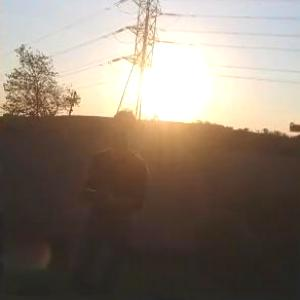follow: (75, 106, 153, 299)
